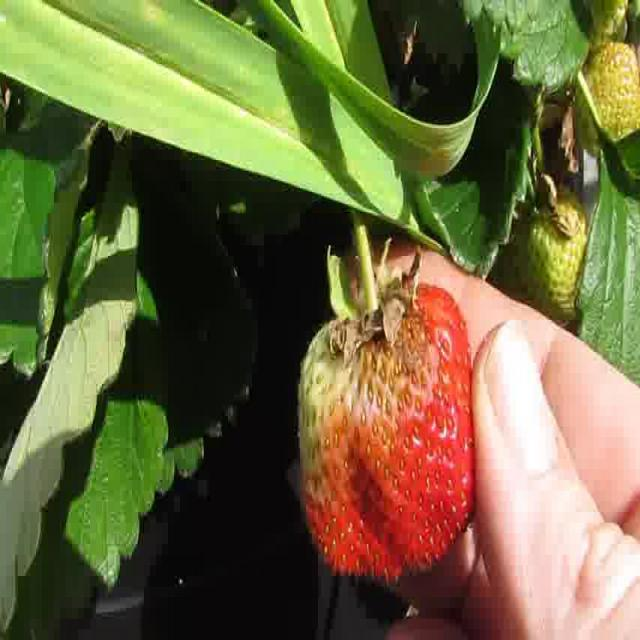Fruta sana: (296, 254, 480, 584), (509, 172, 598, 332), (574, 42, 640, 162), (586, 0, 627, 52)
